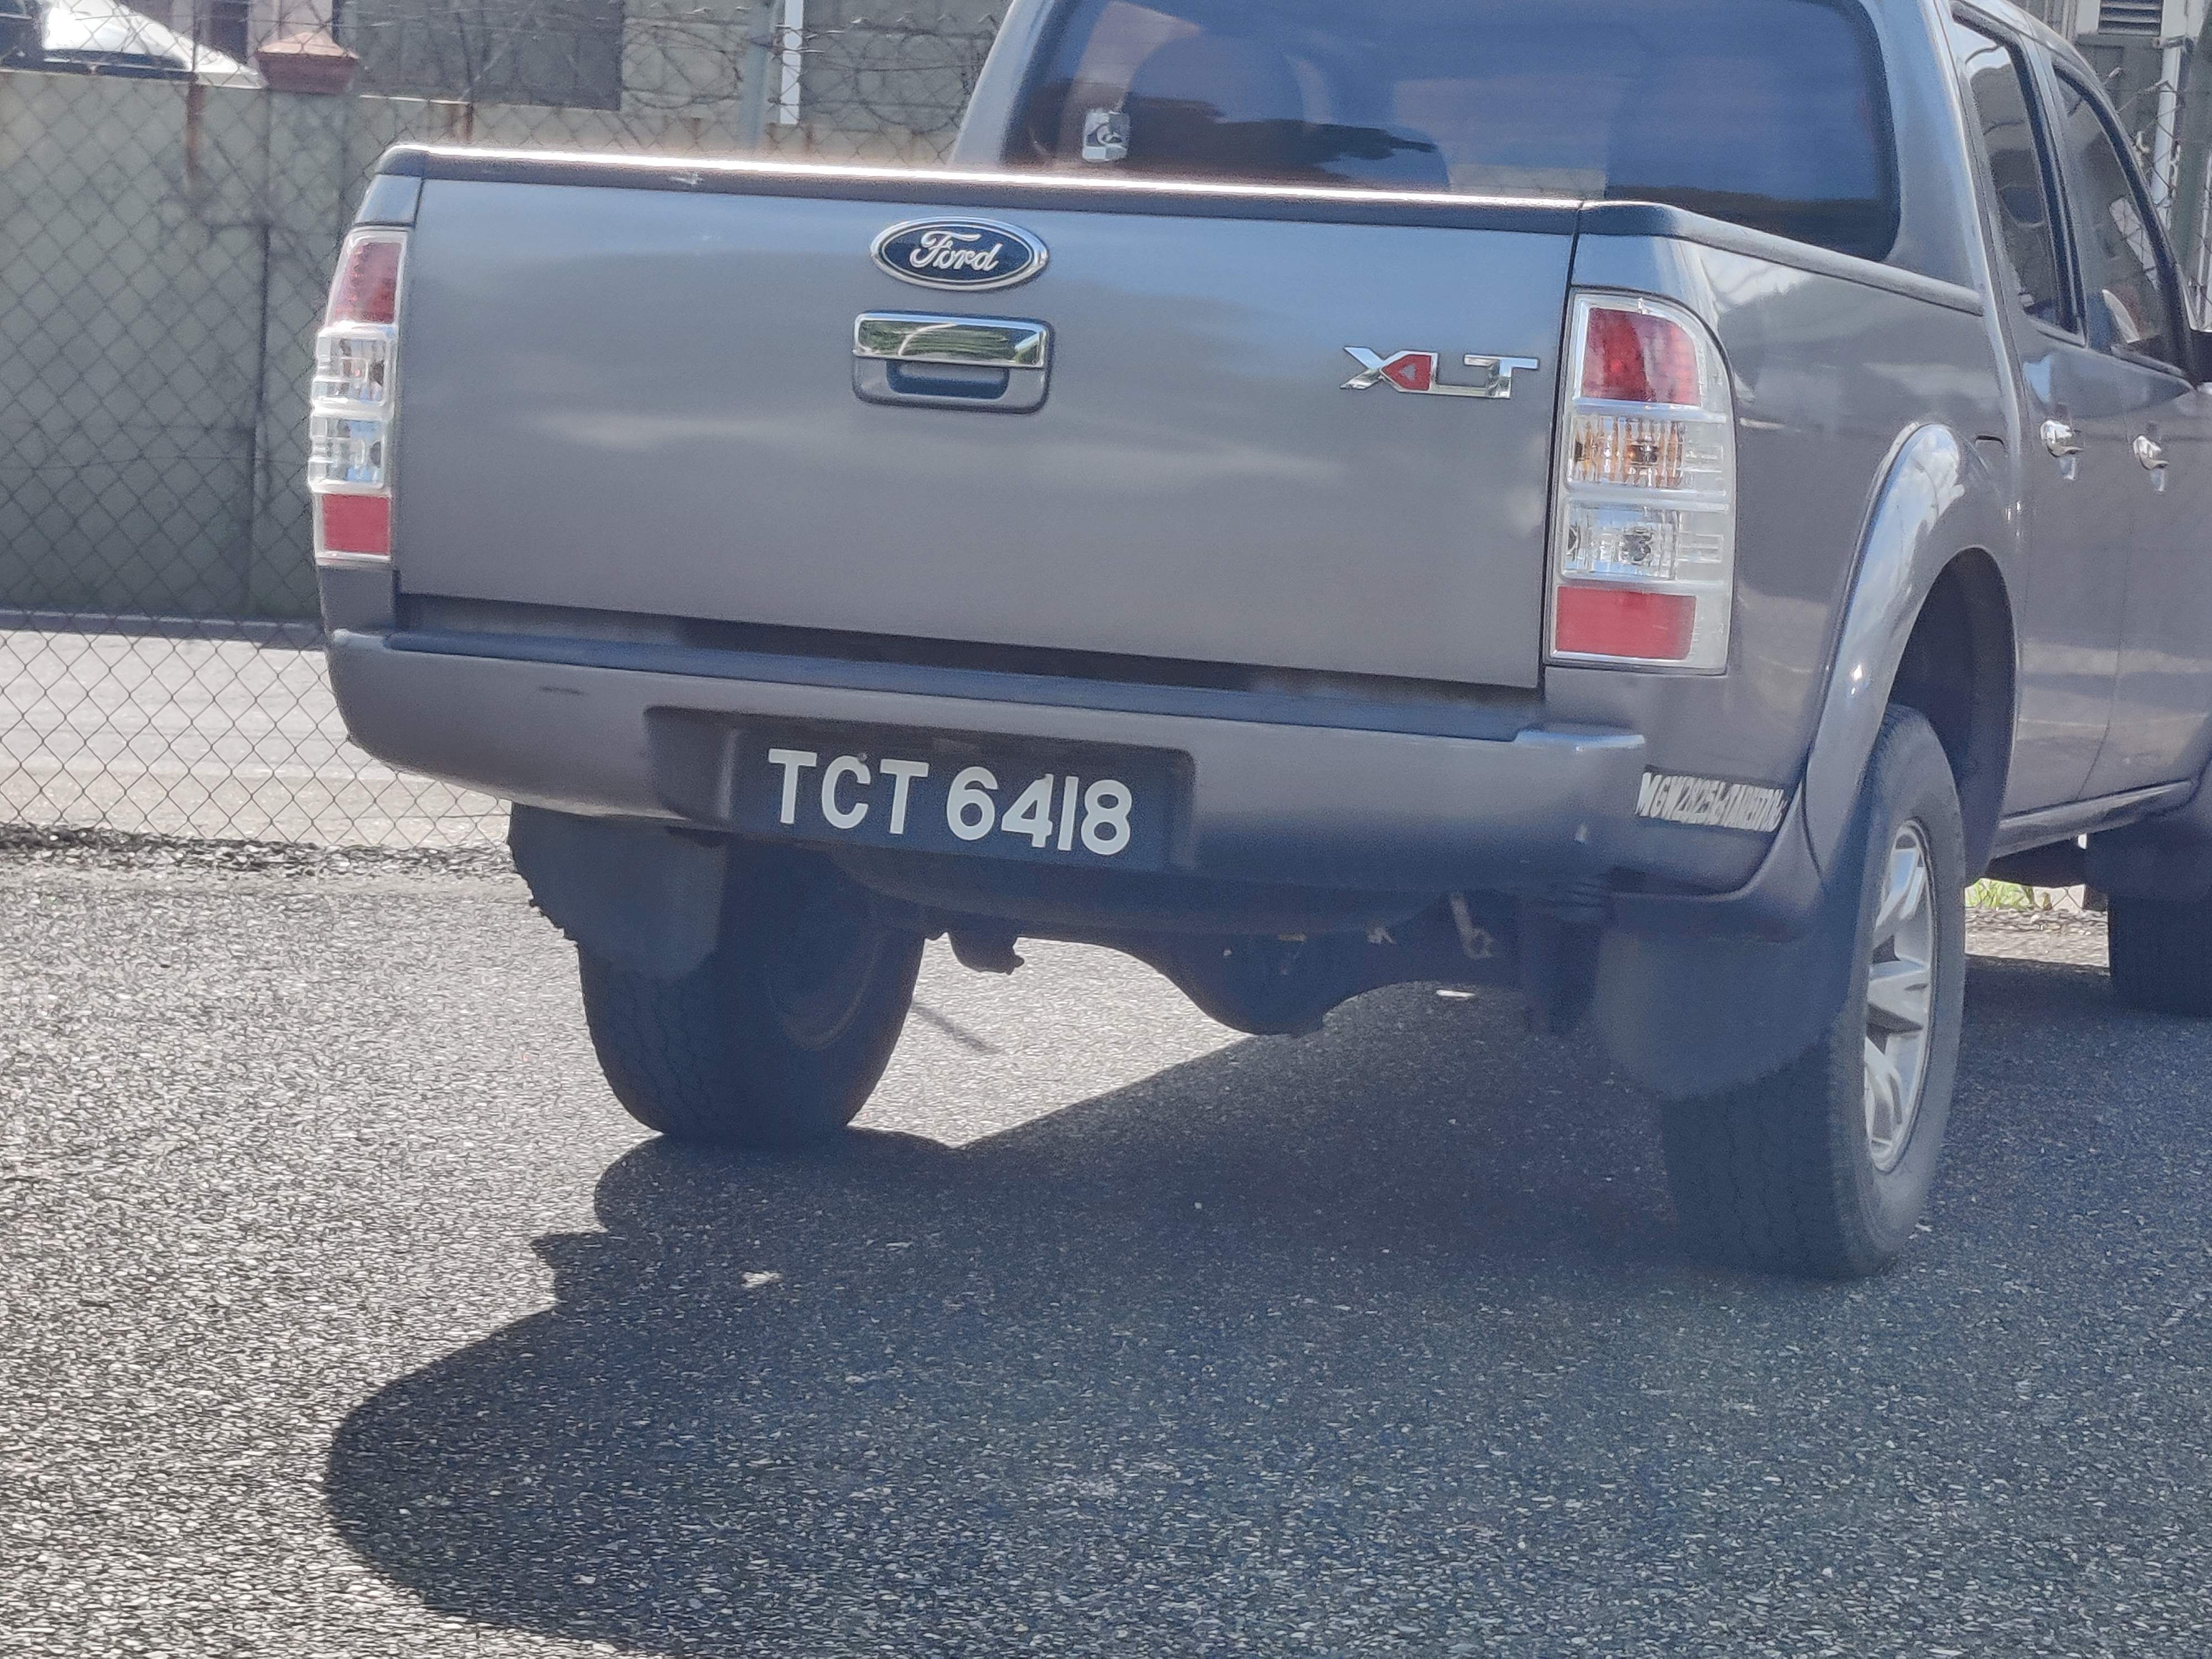License-Plate: (743, 734, 1175, 833)
